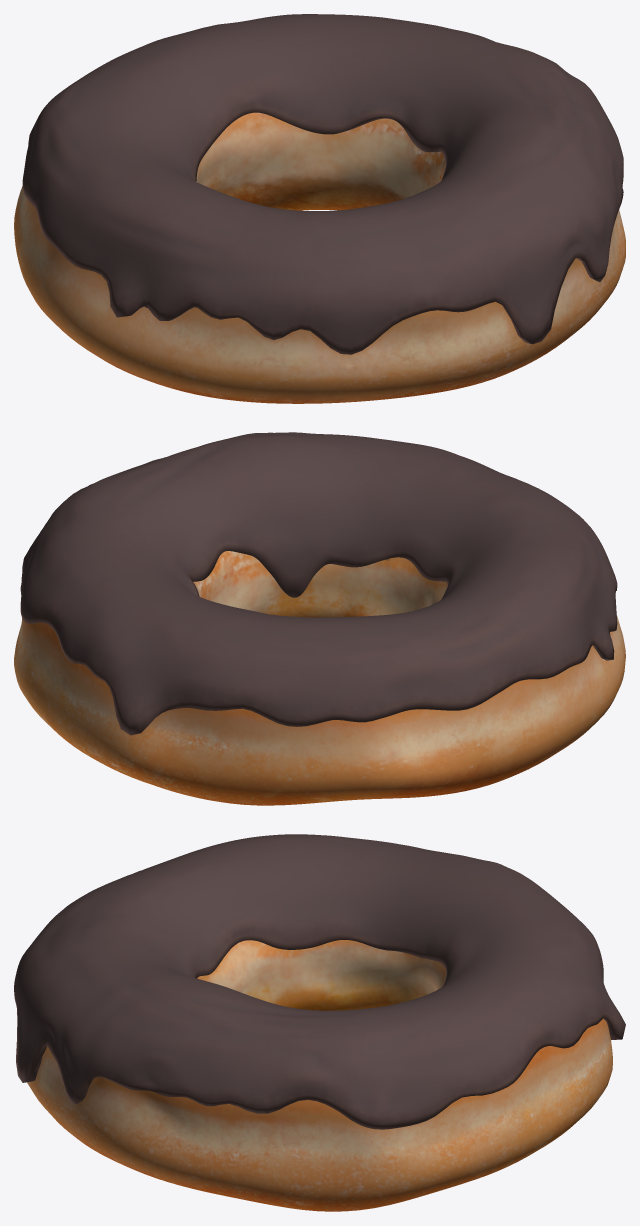
Rendered from donut_with_chocolate.glb.
The picture shows the model from 3 angles, top to bottom: view 1: azimuth 30°, elevation 25°; view 2: azimuth 150°, elevation 25°; view 3: azimuth 270°, elevation 25°; orthographic projection. The views are drawn at different scales.
Parts seen in each view (by area): view 1: Object_2; view 2: Object_2; view 3: Object_2.
Part boxes in pixels (box(x1,y1,x2,y2)): Object_2: box(14, 14, 625, 403); Object_2: box(14, 432, 625, 805); Object_2: box(14, 834, 625, 1211).
Size of the model in its own units: 0.6712 by 0.237 by 0.6893.
1 material, 1 textured.
